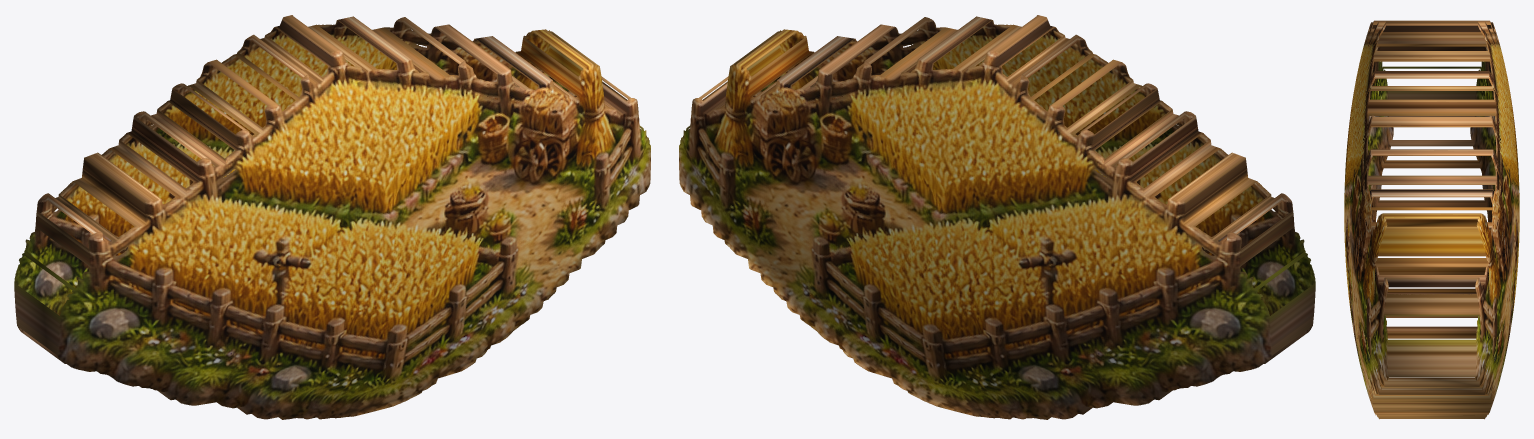
3 views of the same model, side by side, from view 1: azimuth 30°, elevation 25°; view 2: azimuth 150°, elevation 25°; view 3: azimuth 270°, elevation 25° (orthographic). The views are drawn at different scales.
Visible parts, largest first — view 1: villages:0; view 2: villages:0; view 3: villages:0.
Boxes of the visible parts, <box> form: villages:0: <box>14,15,650,419</box>; villages:0: <box>679,15,1315,419</box>; villages:0: <box>1344,20,1519,419</box>.
Size of the model in its own units: 1.58 by 0.9444 by 0.42.
1 material, 1 textured.
